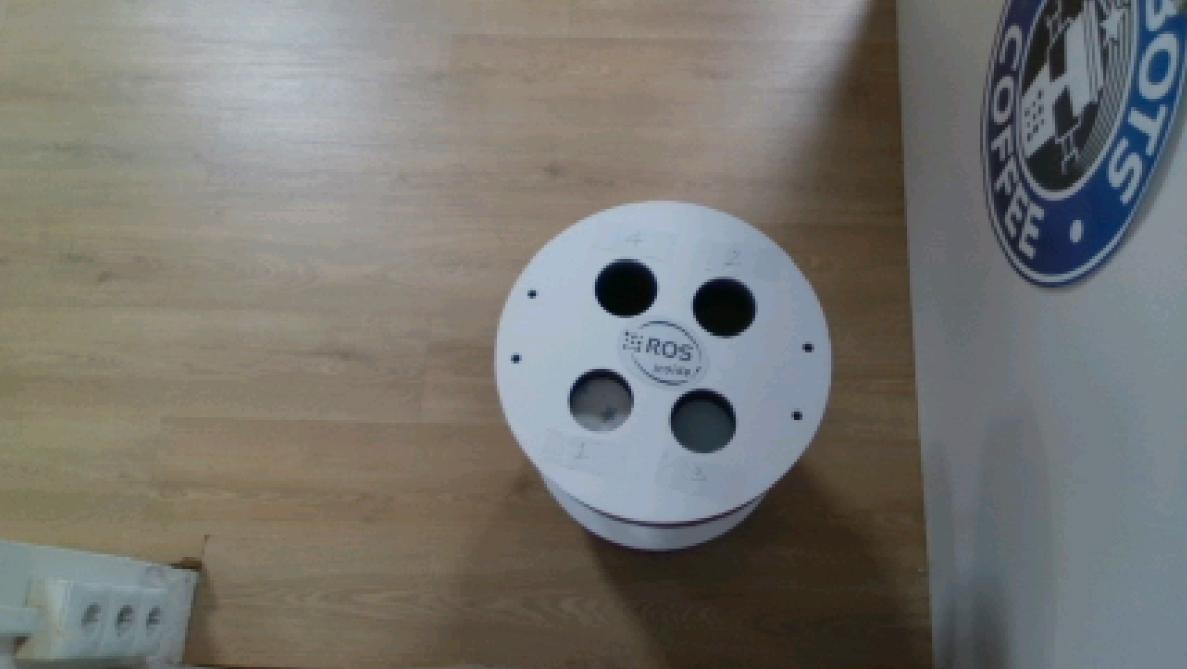hole: (564, 365, 639, 435), (667, 385, 738, 458), (689, 271, 759, 341), (591, 254, 662, 322)
